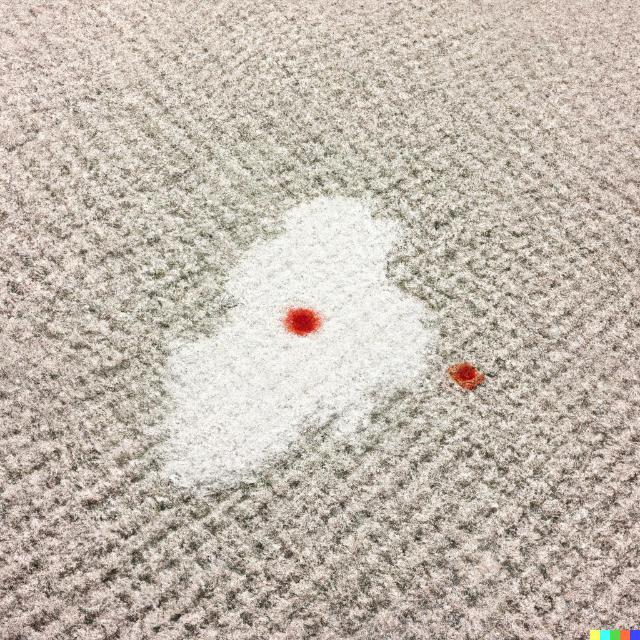blood: (284, 308, 323, 336), (447, 361, 484, 389)
